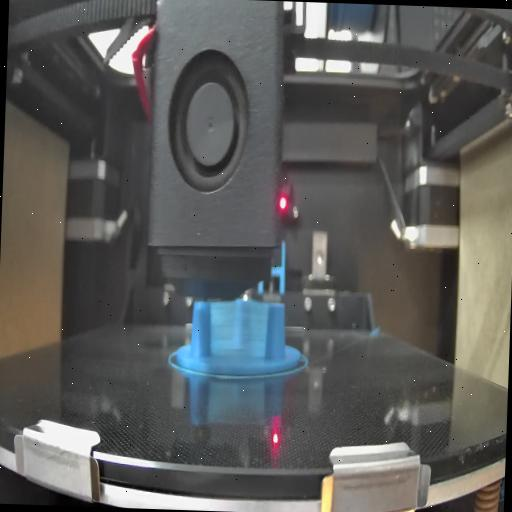stringing: (208, 302, 266, 356)
